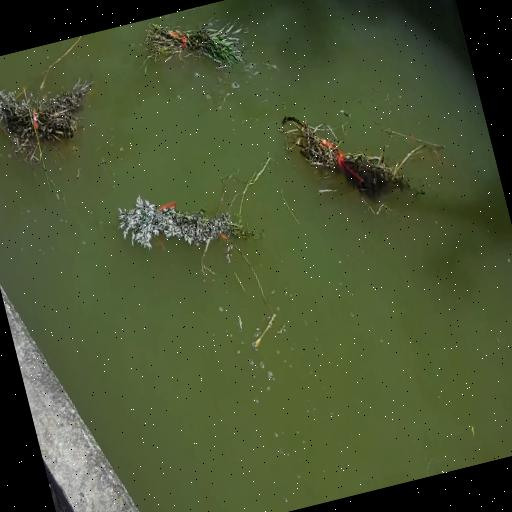twig: (118, 170, 258, 280), (294, 90, 418, 205), (0, 73, 92, 167), (142, 4, 248, 84)
